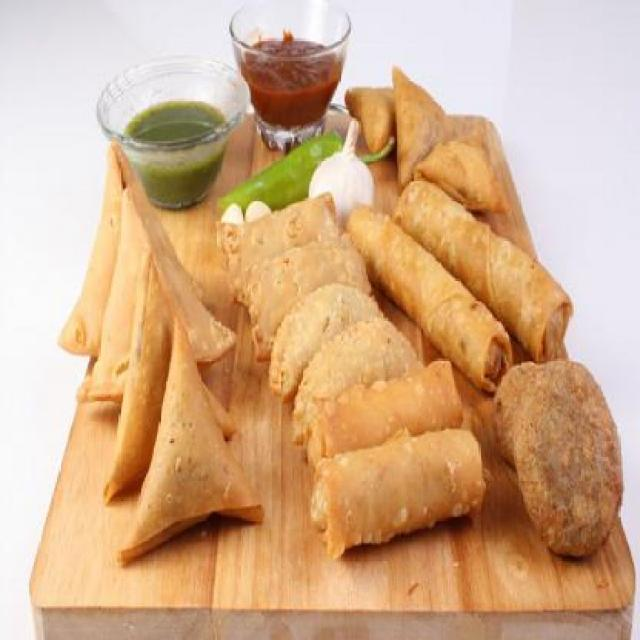samosa: (51, 138, 264, 562), (342, 69, 510, 213)
spring rolls: (352, 172, 574, 382), (299, 350, 487, 550)
